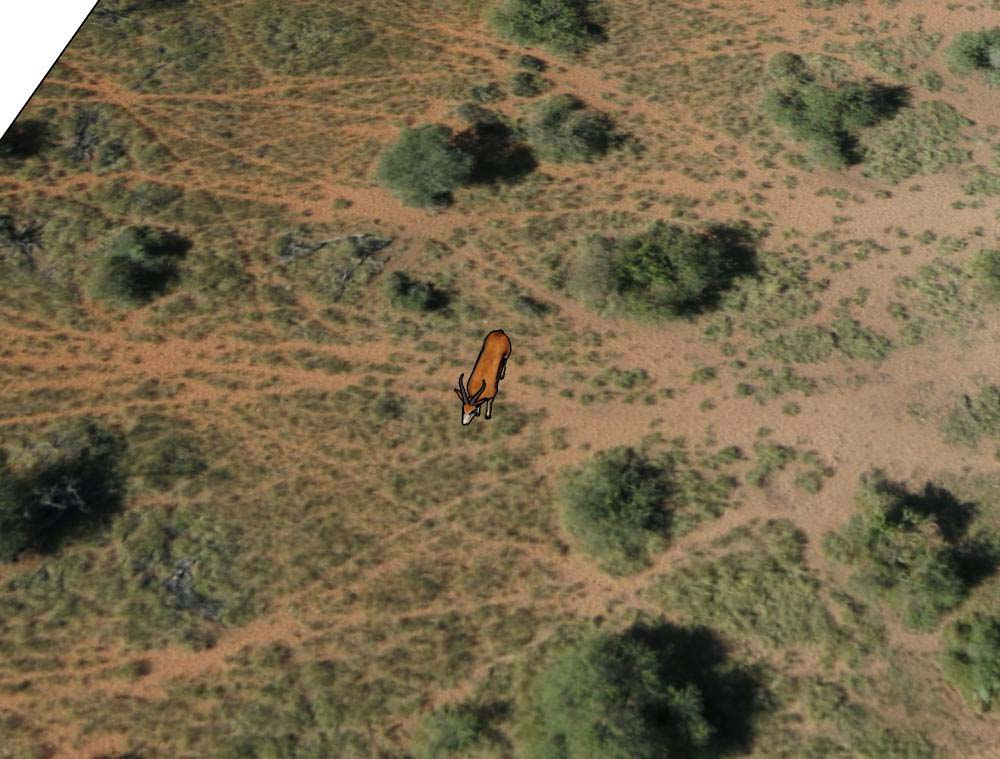springbok: (456, 327, 517, 429)
